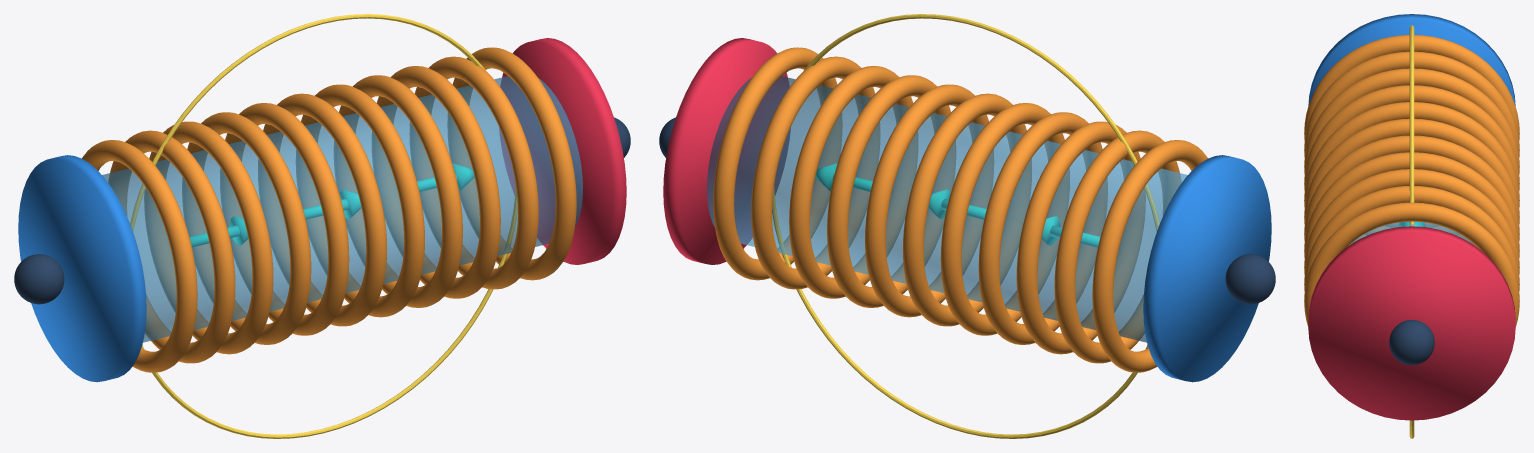
Rendered from solenoid-hand-control.glb.
3 views of the same model, side by side, from view 1: azimuth 30°, elevation 25°; view 2: azimuth 150°, elevation 25°; view 3: azimuth 270°, elevation 25° (orthographic). The views are drawn at different scales.
Parts seen in each view (by area): view 1: Transparent iron core, South pole cap, North pole cap, Copper turn 06, Copper turn 09, Copper turn 03, Copper turn 04, Copper turn 10, Copper turn 07, Copper turn 05, Copper turn 08, Copper turn 11 (+4 smaller); view 2: Transparent iron core, South pole cap, North pole cap, Copper turn 06, Copper turn 09, Copper turn 03, Copper turn 04, Copper turn 10, Copper turn 07, Copper turn 05, Copper turn 08, Copper turn 11 (+4 smaller); view 3: North pole cap, Copper turn 11, South pole cap, Copper turn 02, Copper turn 01, Copper turn 03, Copper turn 07, Copper turn 04, Copper turn 08, Copper turn 06, Copper turn 05, Copper turn 09 (+4 smaller).
Boxes of the visible parts, box(x1,y1,x2,y2) form: Transparent iron core: box(102, 76, 582, 342); South pole cap: box(18, 155, 146, 382); North pole cap: box(499, 38, 626, 264); Copper turn 06: box(258, 93, 387, 326); Copper turn 09: box(372, 66, 500, 298); Copper turn 03: box(144, 121, 273, 354); Copper turn 04: box(182, 112, 311, 344); Copper turn 10: box(409, 56, 538, 289); Copper turn 07: box(296, 84, 424, 317); Copper turn 05: box(220, 103, 349, 335); Copper turn 08: box(334, 75, 462, 307); Copper turn 11: box(447, 47, 576, 280); Transparent iron core: box(707, 76, 1187, 342); South pole cap: box(1143, 155, 1271, 382); North pole cap: box(663, 38, 790, 264); Copper turn 06: box(902, 93, 1031, 326); Copper turn 09: box(789, 66, 917, 298); Copper turn 03: box(1016, 121, 1145, 354); Copper turn 04: box(978, 112, 1107, 344); Copper turn 10: box(751, 56, 880, 289); Copper turn 07: box(865, 84, 993, 317); Copper turn 05: box(940, 103, 1069, 335); Copper turn 08: box(827, 75, 955, 307); Copper turn 11: box(713, 47, 842, 280); North pole cap: box(1308, 226, 1515, 420); Copper turn 11: box(1304, 202, 1519, 326); South pole cap: box(1308, 14, 1515, 105); Copper turn 02: box(1304, 51, 1519, 235); Copper turn 01: box(1304, 35, 1519, 227); Copper turn 03: box(1304, 68, 1519, 242); Copper turn 07: box(1304, 135, 1519, 240); Copper turn 04: box(1304, 85, 1519, 244); Copper turn 08: box(1304, 152, 1519, 257); Copper turn 06: box(1304, 118, 1519, 223); Copper turn 05: box(1304, 102, 1519, 206); Copper turn 09: box(1304, 169, 1519, 273).
Bounding box in the file's own units: 7.01 × 4.55 × 2.37.
